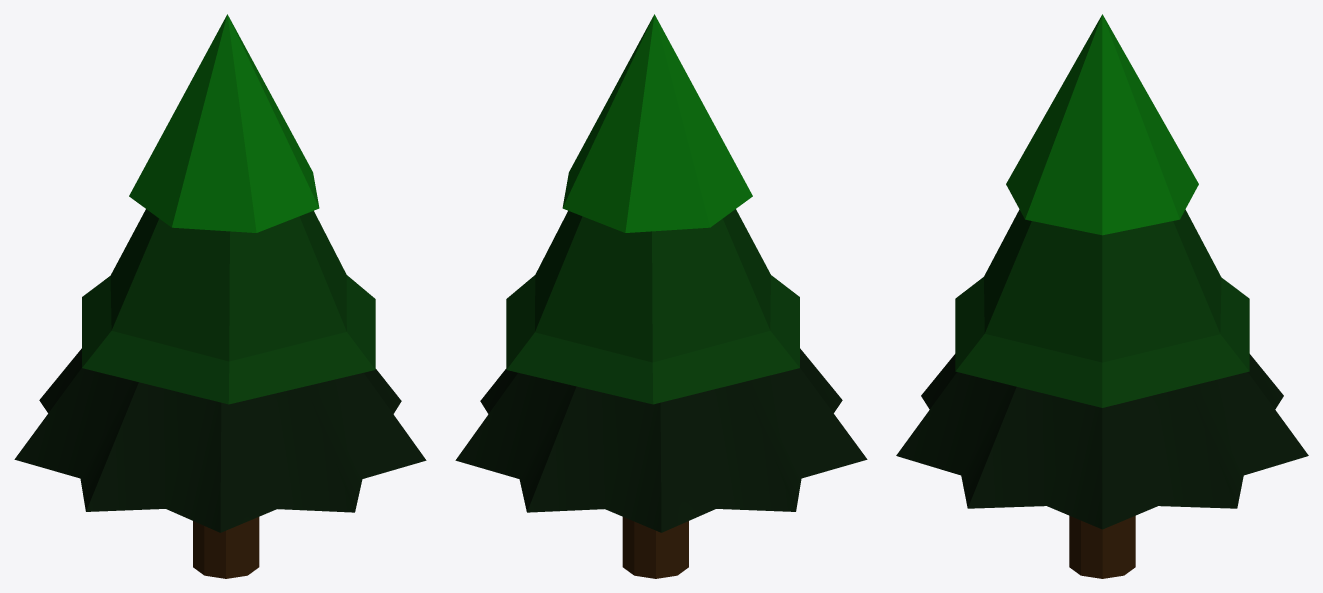
File: Tanne_Small_lp.FBX
3 views of the same model, side by side, from view 1: azimuth 30°, elevation 25°; view 2: azimuth 150°, elevation 25°; view 3: azimuth 270°, elevation 25° (orthographic).
Parts seen in each view (by area): view 1: Tanne002_lp; view 2: Tanne002_lp; view 3: Tanne002_lp.
Part boxes in pixels (x1,y1,x2,y2): Tanne002_lp: [14, 14, 426, 578]; Tanne002_lp: [455, 14, 867, 578]; Tanne002_lp: [896, 14, 1308, 578].
Size of the model in its own units: 2.99 by 4.47 by 3.03.
